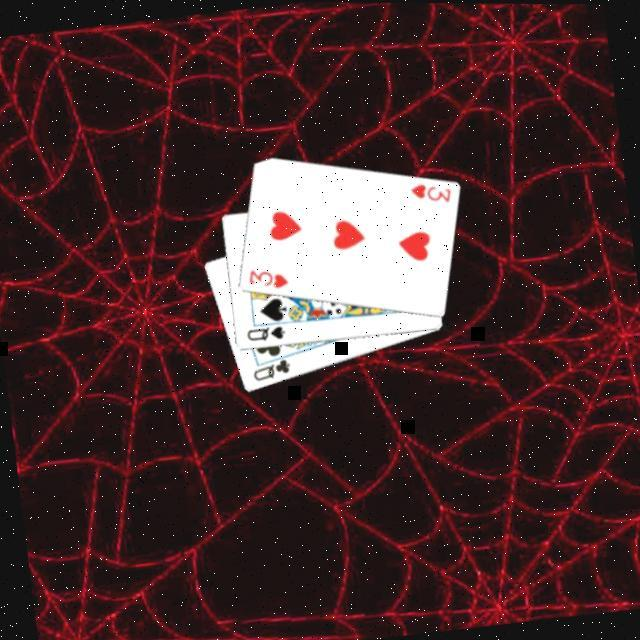3H: (405, 178, 453, 211), (242, 264, 290, 295)
QC: (246, 356, 292, 386)
QS: (241, 323, 287, 348)
